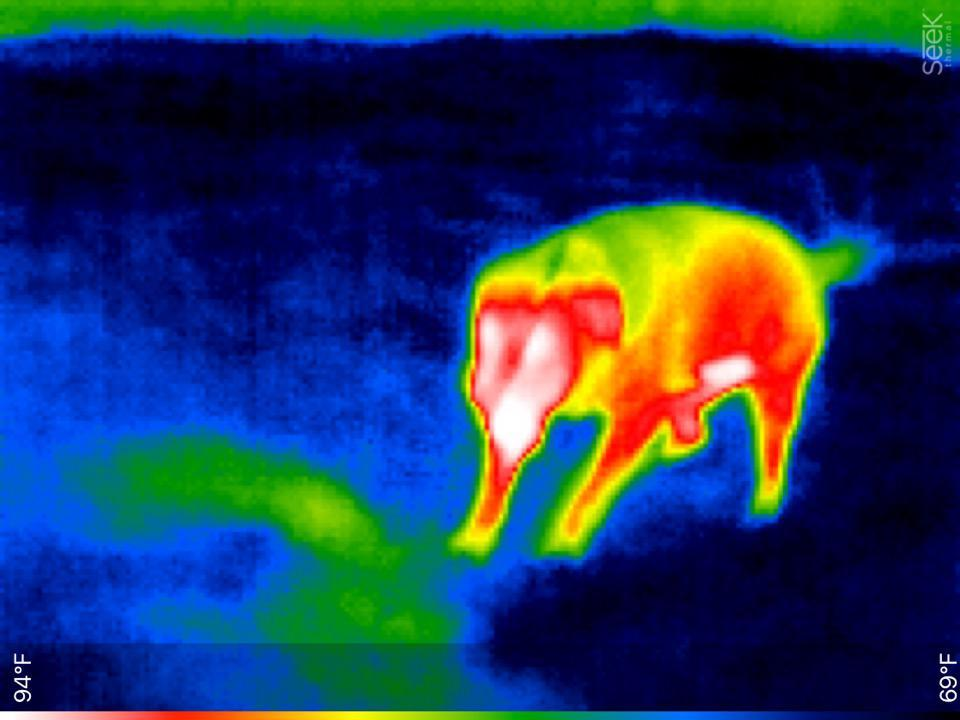dog: (441, 196, 855, 564)
